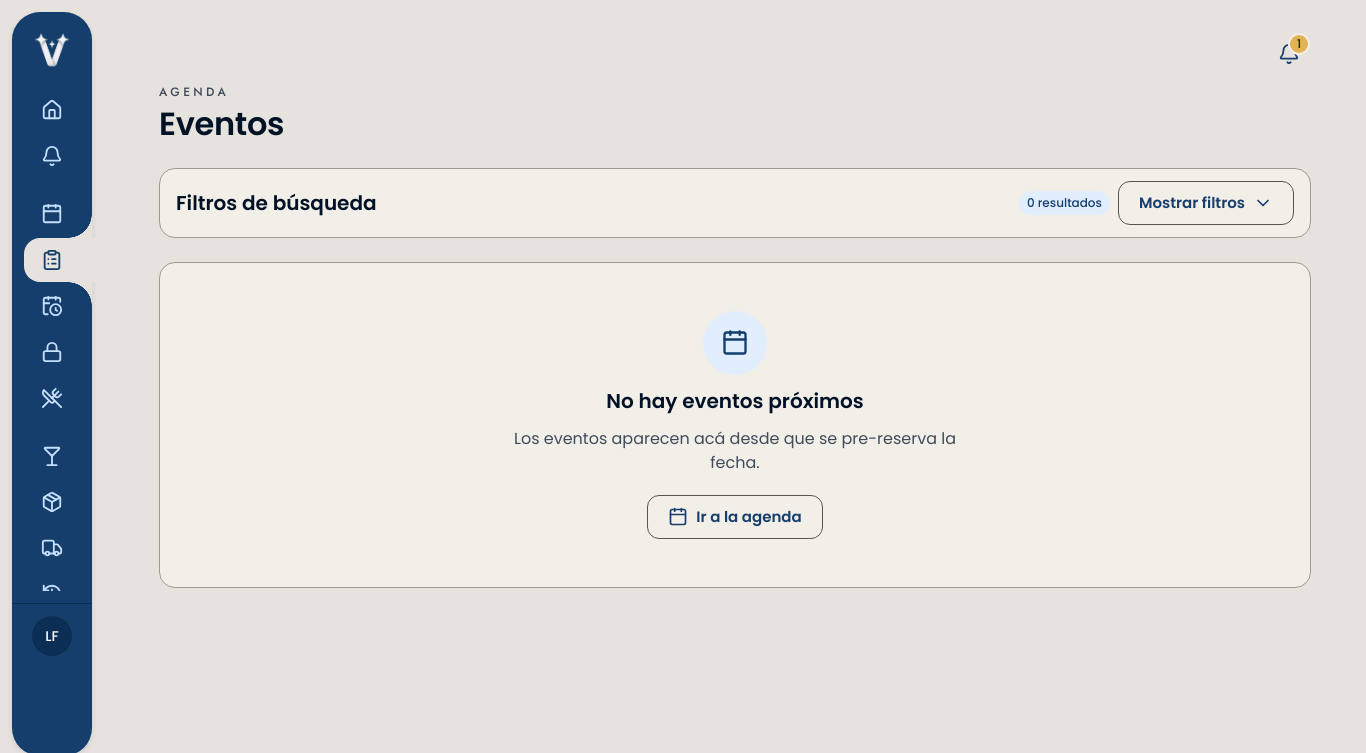
Scenario: UI-22 · notificaciones › el aviso Calendar de DIRECCION conserva color, lectura y ficha sin escribir en Google
Click the button named "Notificaciones, 1 sin leer". click: (1289, 54)
box: [1267,32,1311,76]
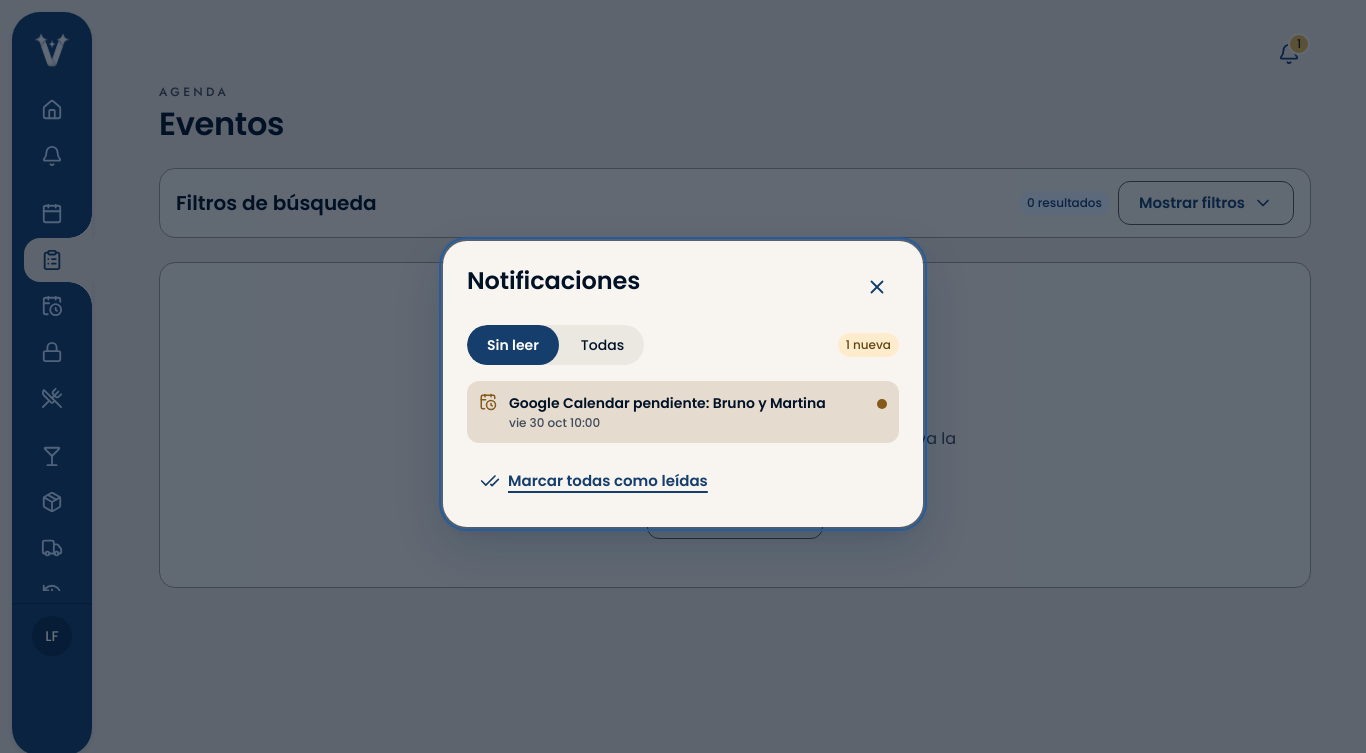
Now the 2nd icon is shown, box [479,393,497,411]
Click the button "Google Calendar pendiente: Bruno y Martina vie 30 oct 10:00". click: (683, 412)
box: [467,381,899,443]
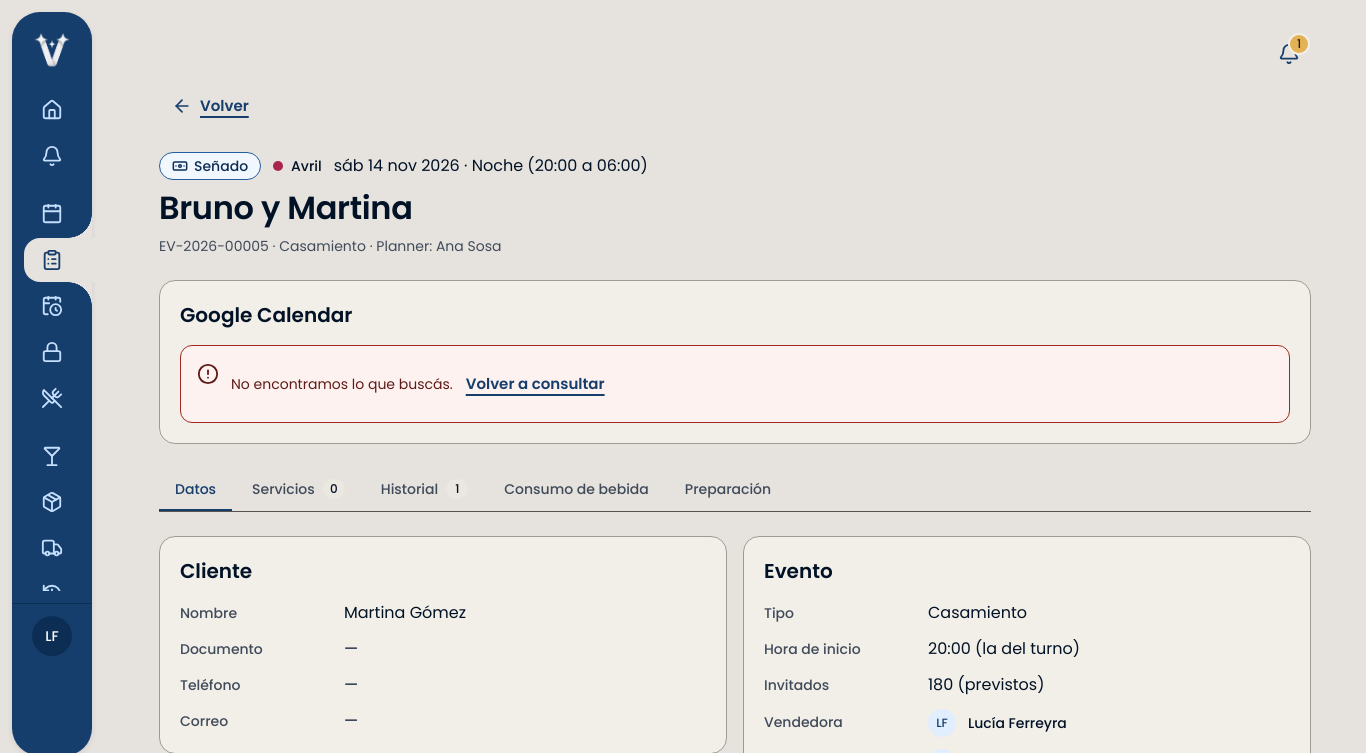
Now the heading "Notificaciones" is gone
